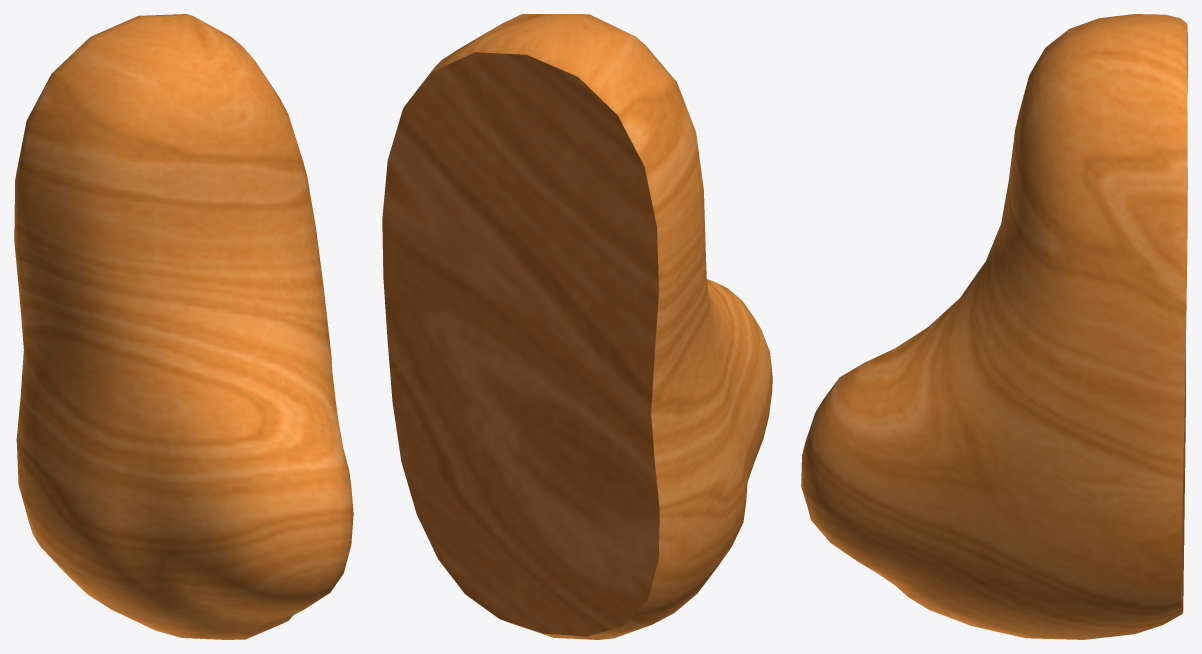
The model's file is Wood_Foot_R.FBX.
3 renders of one model, left to right at view 1: azimuth 30°, elevation 25°; view 2: azimuth 150°, elevation 25°; view 3: azimuth 270°, elevation 25°, orthographic. The views are drawn at different scales.
Parts seen in each view (by area): view 1: foot_L02; view 2: foot_L02; view 3: foot_L02.
Boxes of the visible parts, box(x1,y1,x2,y2) form: foot_L02: box(14, 14, 353, 639); foot_L02: box(382, 14, 772, 639); foot_L02: box(801, 14, 1187, 639).
Size of the model in its own units: 12.06 by 24.39 by 14.18.
1 material, 1 textured.
